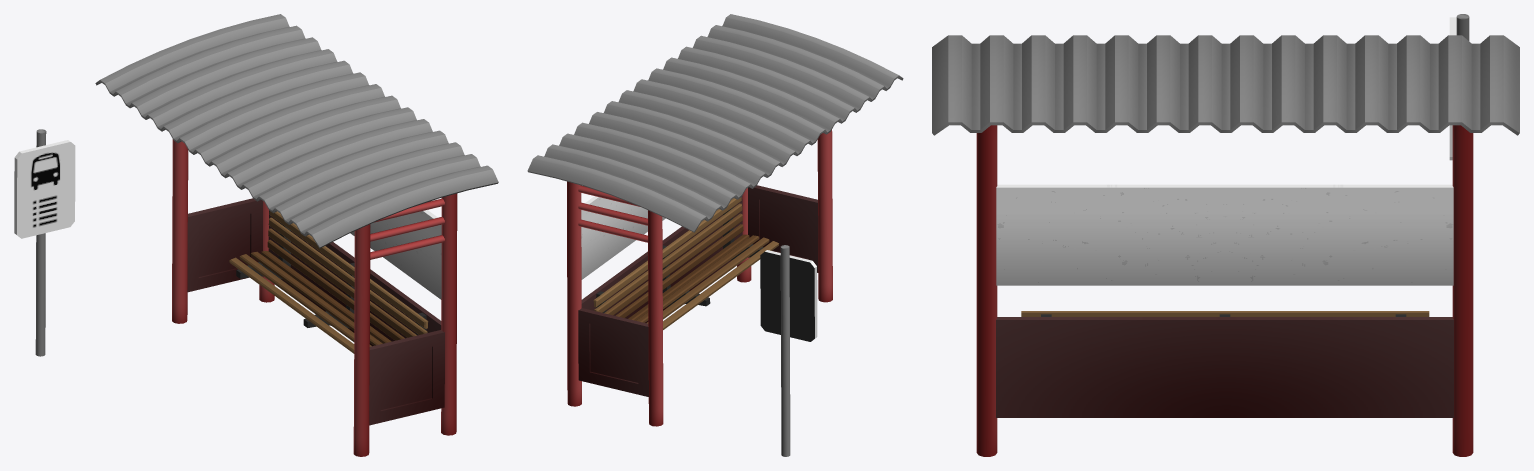
The model's file is lowPoly_busStop.fbx.
3 views of the same model, side by side, from view 1: azimuth 30°, elevation 25°; view 2: azimuth 150°, elevation 25°; view 3: azimuth 270°, elevation 25° (orthographic). The views are drawn at different scales.
Parts seen in each view (by area): view 1: BusStop; view 2: BusStop; view 3: BusStop.
Part boxes in pixels (x1,y1,x2,y2): BusStop: (14,14,498,456); BusStop: (527,14,903,456); BusStop: (932,14,1519,456).
Size of the model in its own units: 122 by 110 by 167.
Materials: 1 (1 with a texture image).
